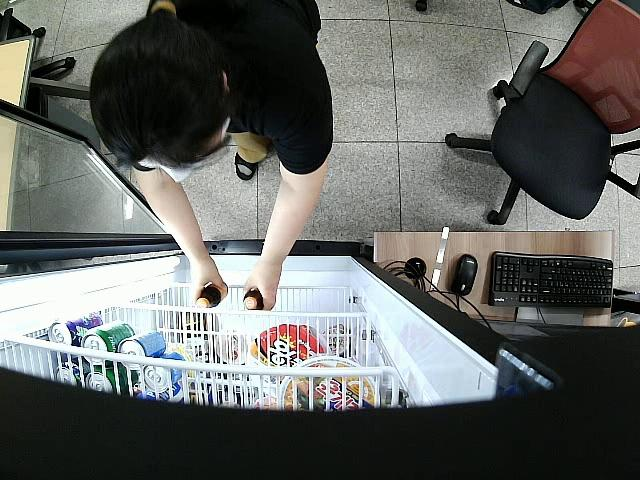00_hand: (187, 257, 229, 297), (242, 266, 280, 309)
17_vita500: (196, 281, 226, 310), (243, 290, 263, 311)
